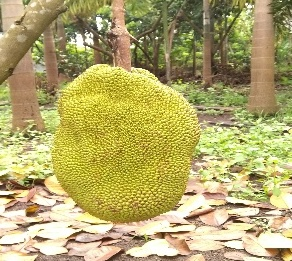Mit: (52, 64, 202, 223)
